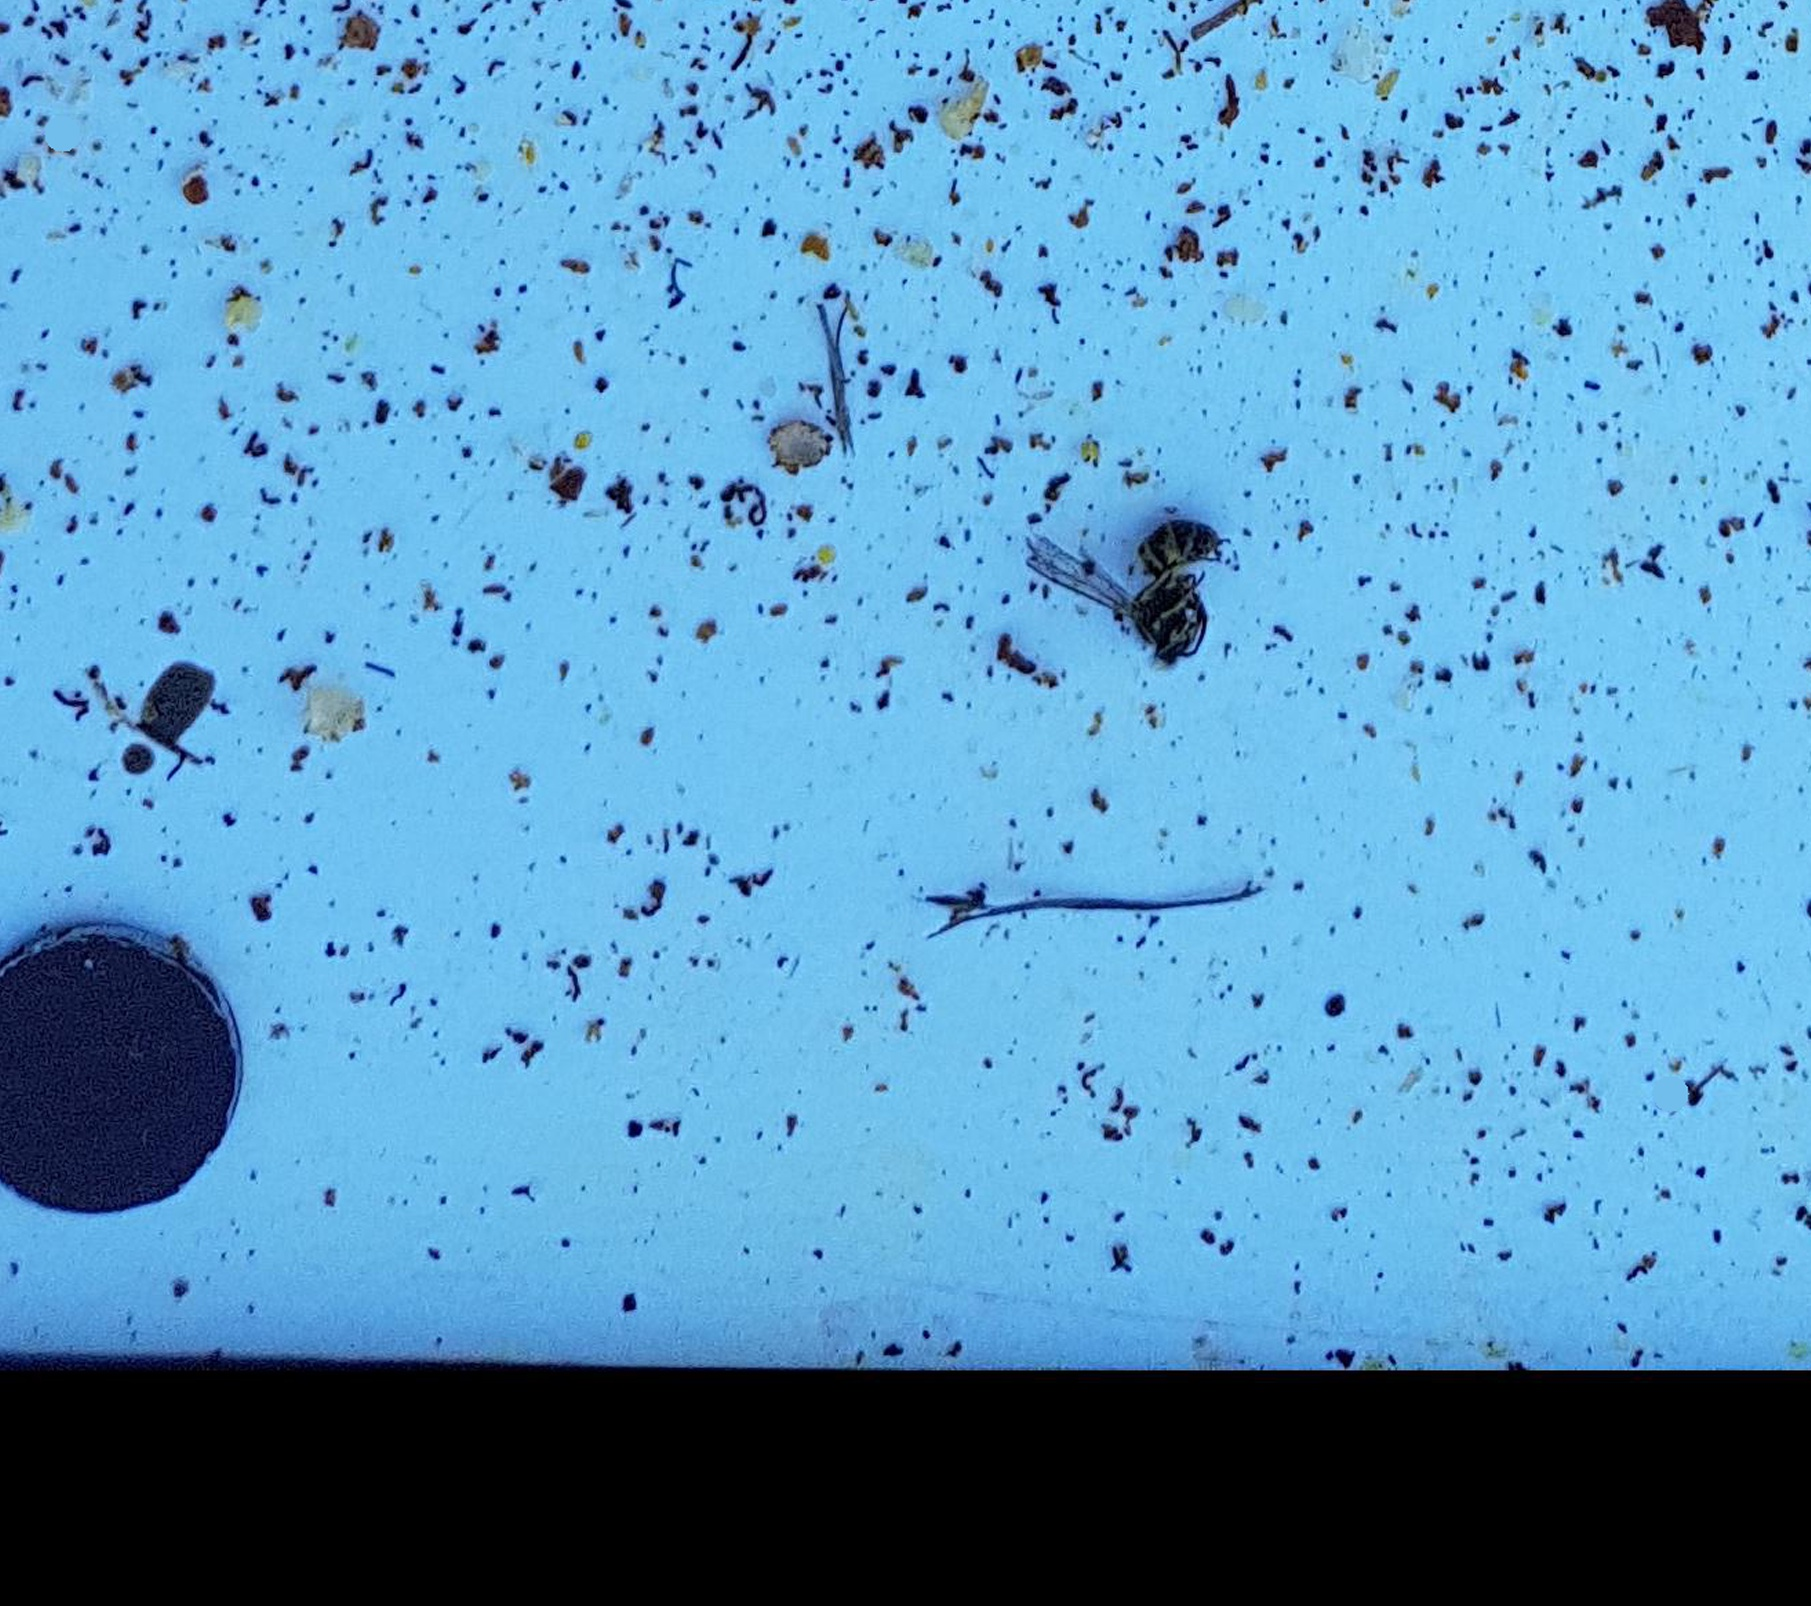Varroa: (1321, 989, 1347, 1020)
